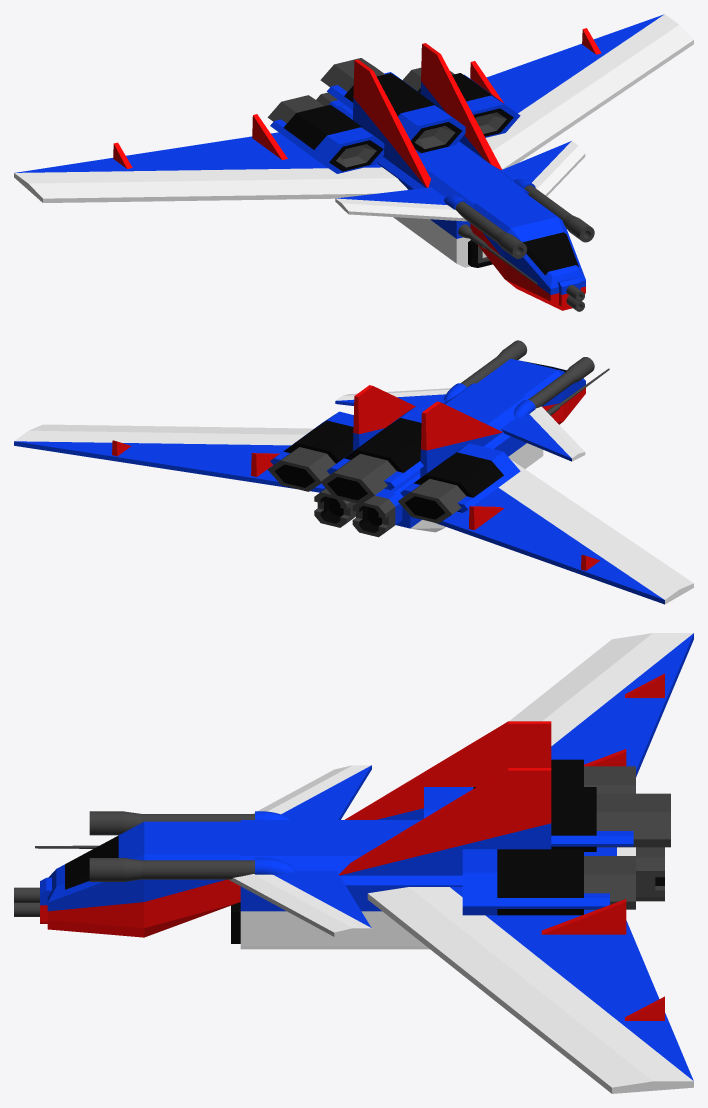
Rendered from AlphaFighter.fbx.
3 renders of one model, top to bottom at view 1: azimuth 30°, elevation 25°; view 2: azimuth 150°, elevation 25°; view 3: azimuth 270°, elevation 25°, orthographic. The views are drawn at different scales.
Parts seen in each view (by area): view 1: wing_longSlant (×4), engine_turbineLarge% (×3), rudder (×2), hull_body, hull_cockpitPoint, hull_slant, attachment_barrelEnd (×2), blaster_barrelDouble, rudder_simple, detail_antenna; view 2: wing_longSlant (×4), engine_turbineLarge% (×3), rudder (×2), hull_body, engine_low (×2), hull_slant, attachment_barrelEnd (×2), rudder_simple (×2), hull_transitionLower, hull_cockpitPoint; view 3: wing_longSlant (×4), engine_turbineLarge% (×3), rudder (×2), hull_body, hull_slant, hull_cockpitPoint, attachment_barrelEnd (×2), rudder_simple, engine_low, blaster_barrelDouble.
Boxes of the visible parts, box(x1,y1,x2,y2) form: wing_longSlant (×4): box(14, 14, 693, 221); engine_turbineLarge% (×3): box(267, 58, 520, 173); rudder (×2): box(353, 43, 501, 187); hull_body: box(377, 141, 528, 267); hull_cockpitPoint: box(504, 216, 585, 310); hull_slant: box(470, 191, 557, 278); attachment_barrelEnd (×2): box(455, 185, 594, 258); blaster_barrelDouble: box(557, 277, 584, 311); rudder_simple: box(252, 114, 287, 159); detail_antenna: box(458, 224, 537, 284); wing_longSlant (×4): box(14, 388, 693, 604); engine_turbineLarge% (×3): box(267, 405, 520, 523); rudder (×2): box(353, 385, 502, 477); hull_body: box(443, 383, 543, 527); engine_low (×2): box(314, 488, 402, 537); hull_slant: box(476, 358, 563, 424); attachment_barrelEnd (×2): box(461, 340, 594, 408); rudder_simple (×2): box(251, 453, 503, 530); hull_transitionLower: box(323, 469, 444, 532); hull_cockpitPoint: box(515, 359, 585, 420); wing_longSlant (×4): box(229, 633, 693, 1093); engine_turbineLarge% (×3): box(424, 759, 670, 915); rudder (×2): box(339, 721, 551, 875); hull_body: box(240, 820, 462, 949); hull_slant: box(144, 821, 240, 937); hull_cockpitPoint: box(47, 822, 144, 937); attachment_barrelEnd (×2): box(89, 811, 254, 881); rudder_simple: box(541, 899, 626, 934); engine_low: box(617, 847, 664, 901); blaster_barrelDouble: box(14, 877, 51, 923).
Size of the model in its own units: 110 by 20.54 by 70.5.
